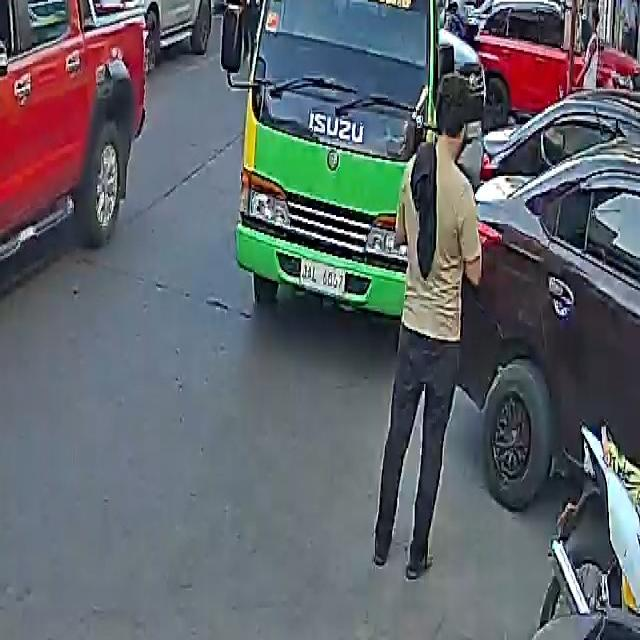car: (458, 142, 640, 519), (0, 0, 172, 384), (472, 0, 640, 121), (100, 0, 219, 59)
